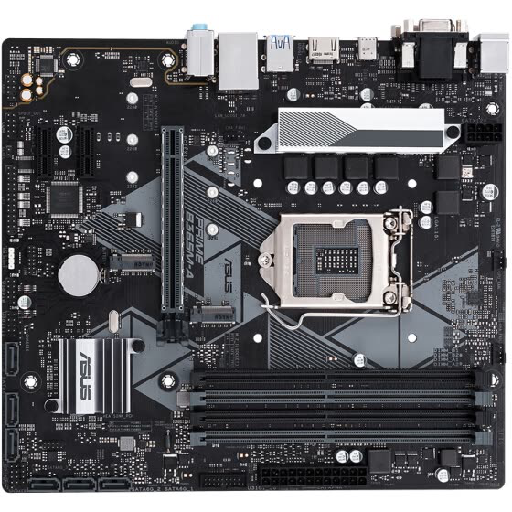CPU: (256, 209, 413, 311)
GPU: (155, 126, 190, 340)
MOTHERBOARD: (1, 38, 507, 494)
RAM: (184, 363, 496, 448)
SSD: (106, 247, 155, 279), (187, 303, 238, 327)
